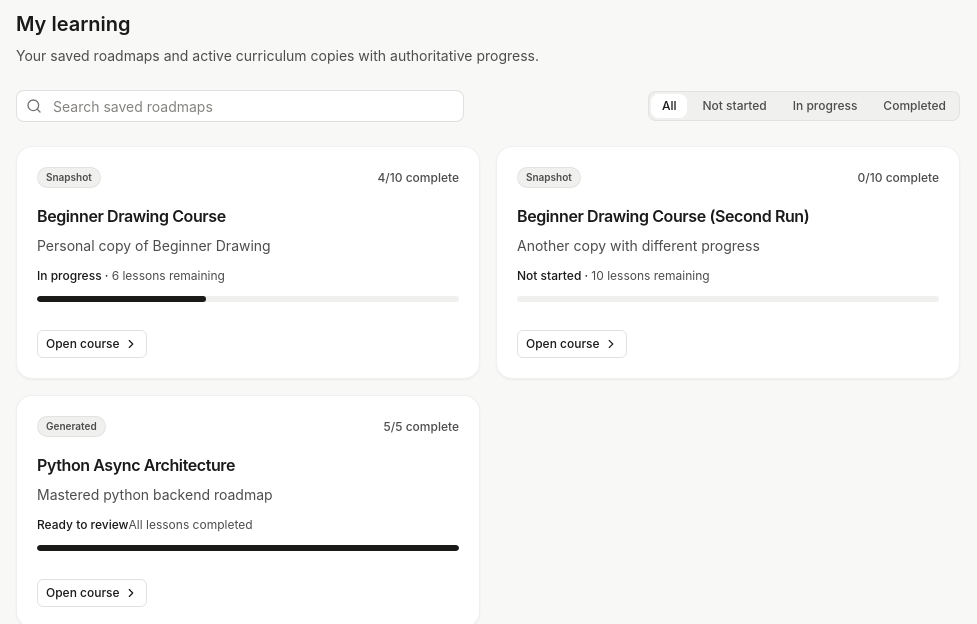
Test: StudioMyLearningView (LSI-006) › displays empty state with Clear search and filters button when filter produces no results
Type "Nonexistent topic xyz" into the field named "Search My learning" at [240, 106], box [16, 90, 464, 122]
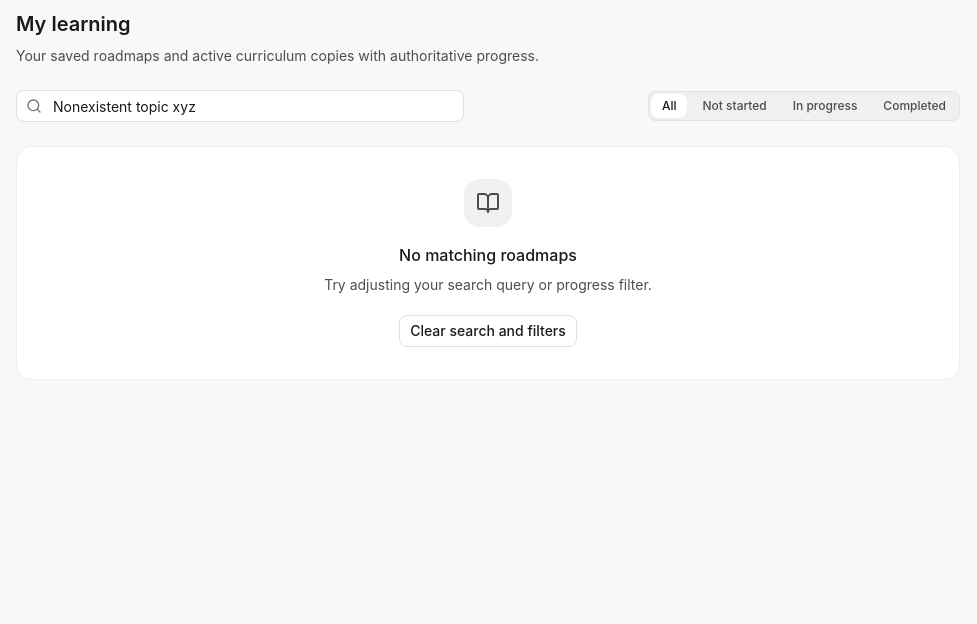
expect the heading "No matching roadmaps" is shown: met, box [399, 245, 577, 265]
Click the button "Clear search and filters" at [488, 331], box [399, 315, 577, 347]
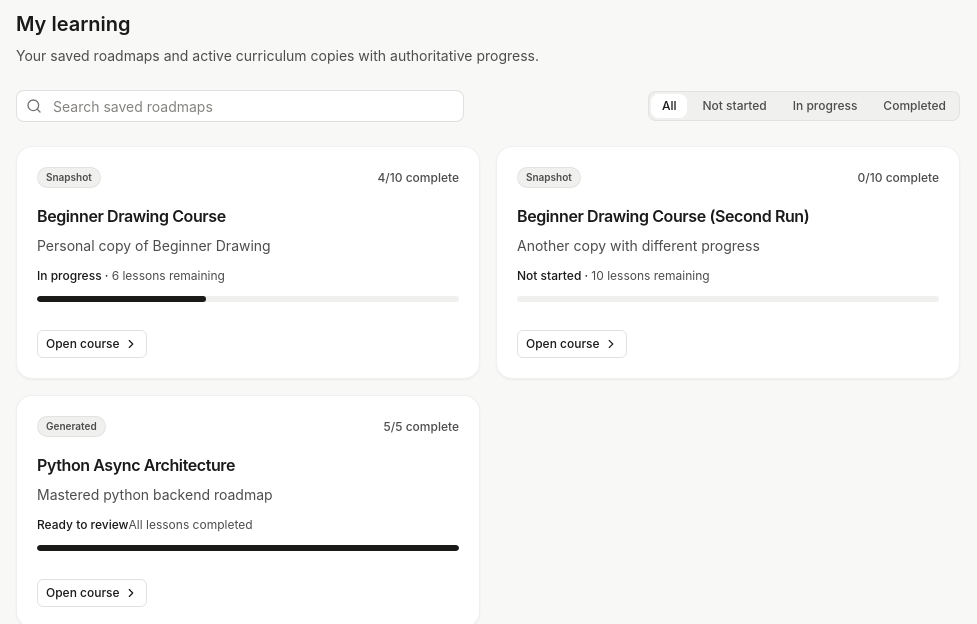
expect the element with test id "workspace-curriculum-card-ws_copy_1" is shown: met, box [16, 146, 480, 379]
